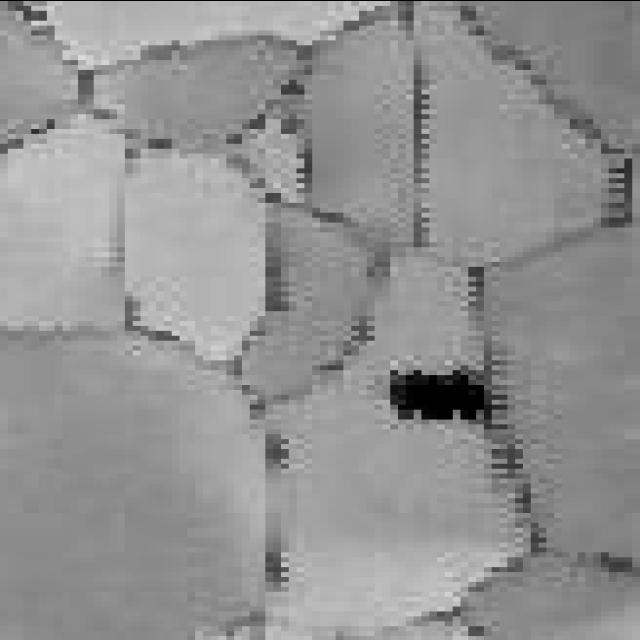good_void: (375, 359, 509, 427)
